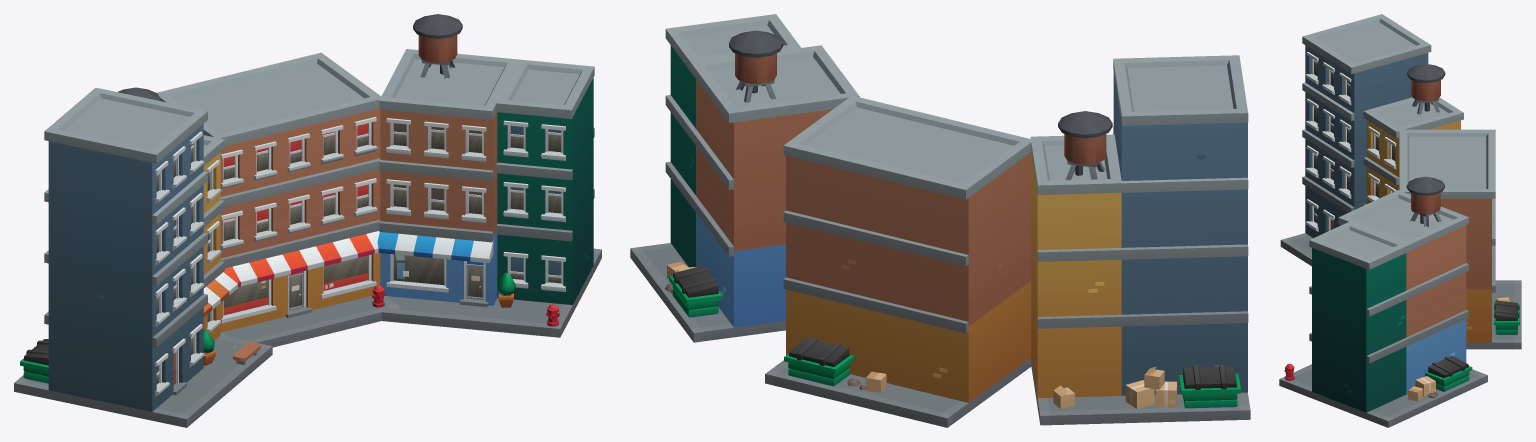
The model's file is BuildingsScene.glb.
3 views of the same model, side by side, from view 1: azimuth 30°, elevation 25°; view 2: azimuth 150°, elevation 25°; view 3: azimuth 270°, elevation 25° (orthographic). The views are drawn at different scales.
Visible parts, largest first — view 1: building_E; view 2: building_E; view 3: building_E.
Part boxes in pixels (<box>): building_E: <box>14,14,601,427</box>; building_E: <box>630,14,1250,427</box>; building_E: <box>1279,14,1521,427</box>.
Size of the model in its own units: 6.92 by 3.05 by 3.28.
1 material, 1 textured.
